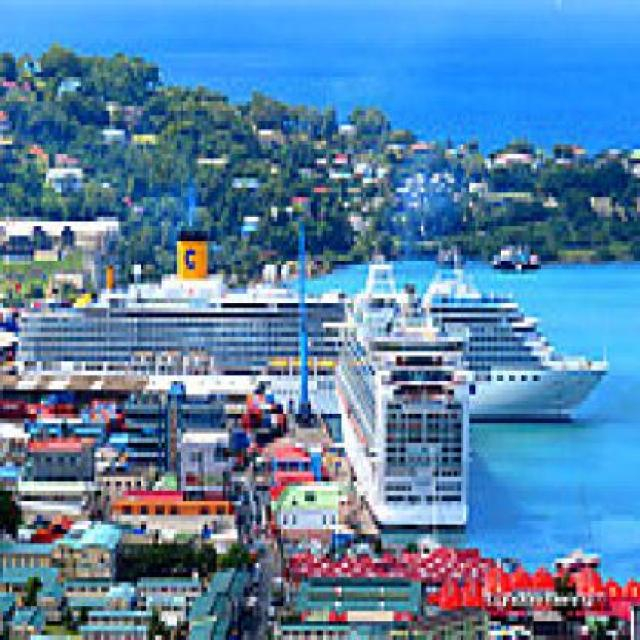cruise: (330, 247, 492, 541), (400, 242, 617, 434)
